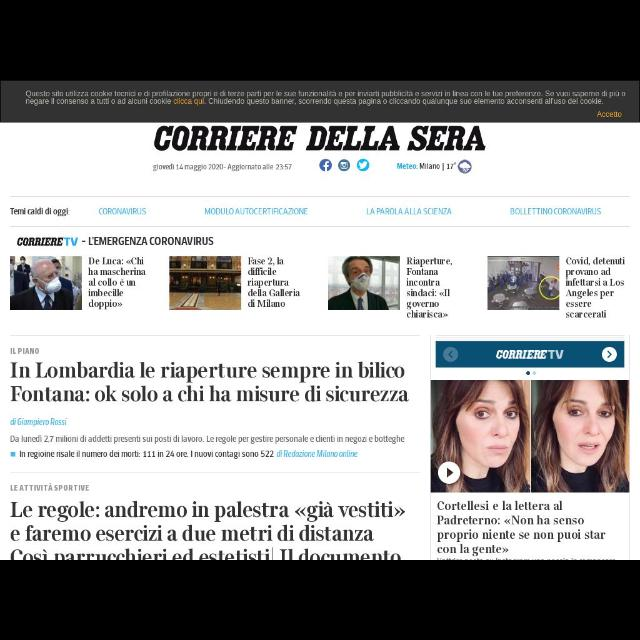icon: (598, 347, 618, 361), (354, 158, 372, 172), (317, 158, 333, 172), (458, 159, 472, 175), (337, 158, 351, 172)
image: (430, 381, 628, 492), (326, 256, 400, 310), (8, 255, 82, 309), (170, 256, 240, 310), (488, 255, 558, 309)
text: (8, 494, 406, 546), (156, 123, 486, 153), (22, 89, 628, 105), (438, 502, 616, 554), (9, 436, 404, 458), (12, 384, 404, 404), (11, 363, 403, 381), (10, 549, 410, 559), (566, 258, 628, 316), (90, 256, 146, 312), (406, 256, 454, 320), (246, 258, 302, 308), (15, 236, 216, 246), (148, 163, 292, 171), (507, 206, 603, 216), (9, 481, 91, 492), (364, 207, 454, 217), (208, 208, 310, 216), (9, 417, 66, 429), (12, 206, 70, 217), (396, 160, 456, 170), (96, 205, 148, 215), (9, 346, 39, 356), (596, 110, 622, 118)
